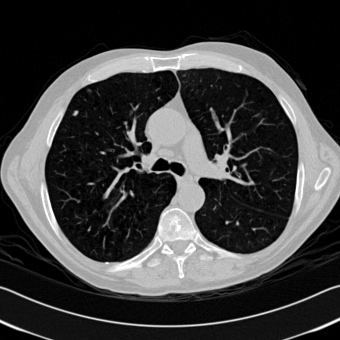nodule: (72, 110, 78, 116)
